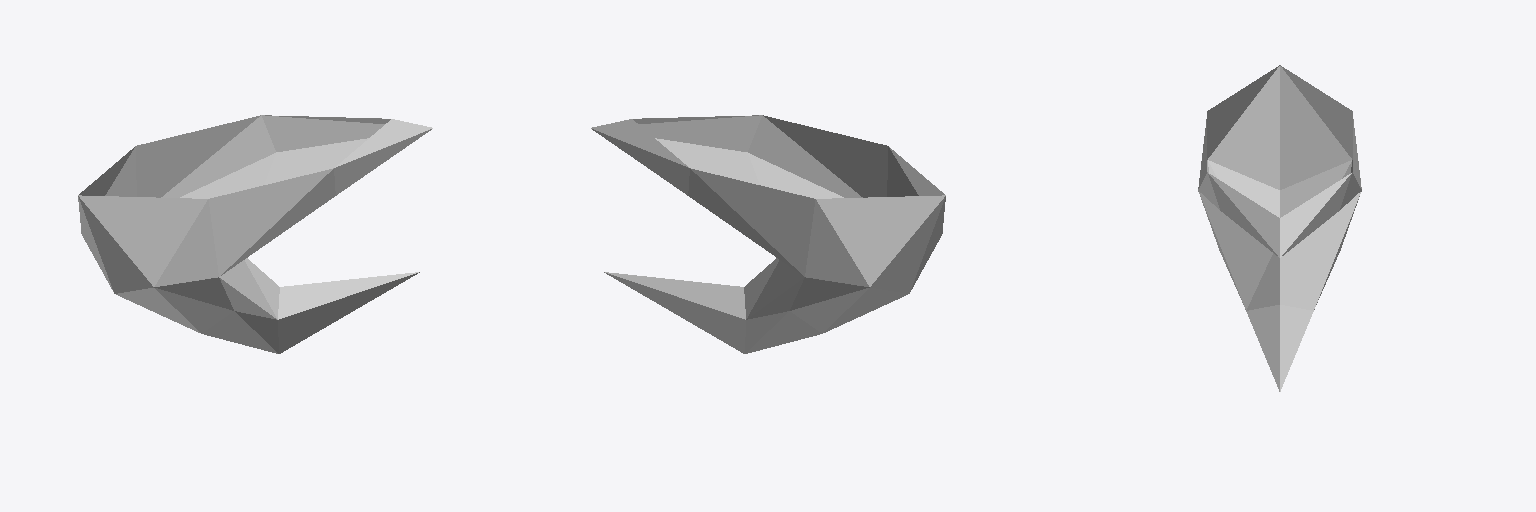
File: carbon_foot_gem2.obj
3 views of the same model, side by side, from view 1: azimuth 30°, elevation 25°; view 2: azimuth 150°, elevation 25°; view 3: azimuth 270°, elevation 25° (orthographic).
Visible parts, largest first — view 1: CarbonFootGem2; view 2: CarbonFootGem2; view 3: CarbonFootGem2.
Part boxes in pixels (bbox=[...]): CarbonFootGem2: bbox=[78, 115, 432, 353]; CarbonFootGem2: bbox=[591, 115, 945, 353]; CarbonFootGem2: bbox=[1198, 65, 1361, 391].
Bounding box in the file's own units: 2.27 × 1.27 × 0.9039.